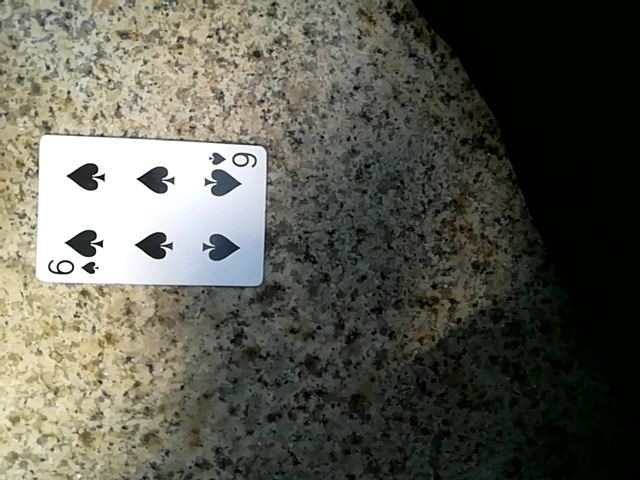ht 6: (35, 144, 271, 300)
